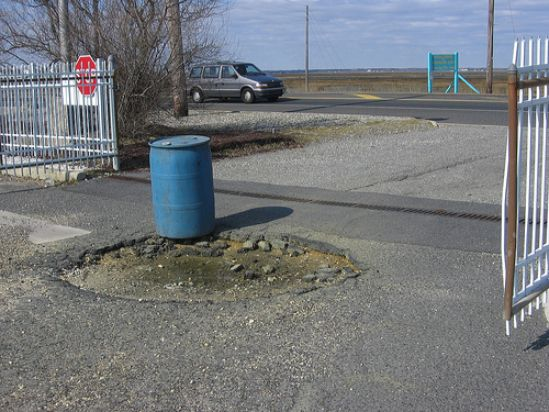pothole: (50, 236, 366, 298)
